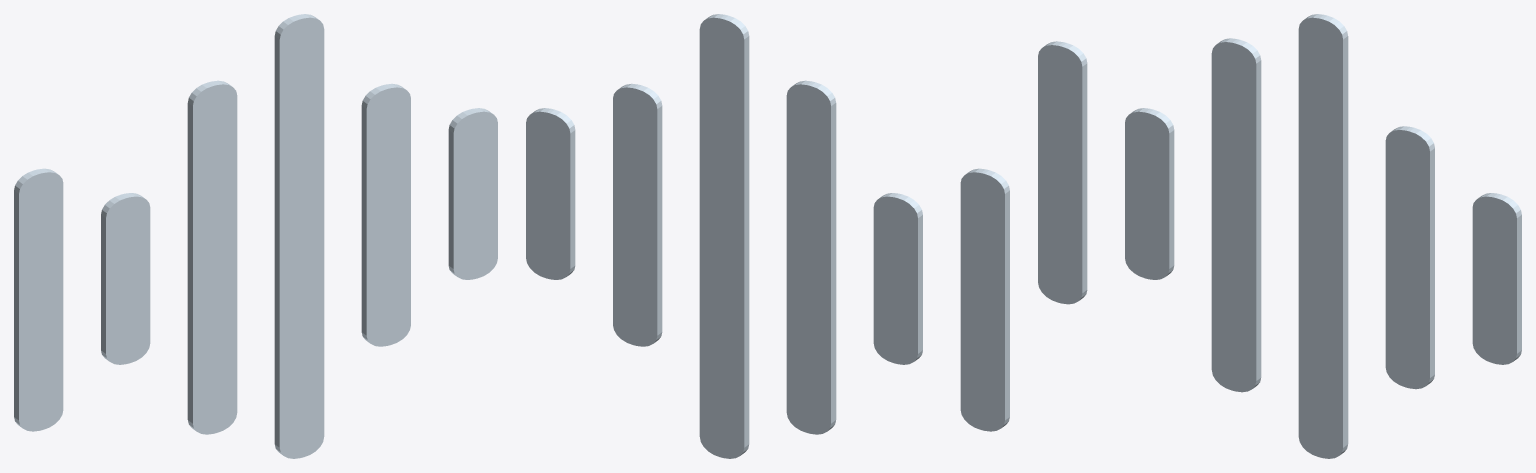
The model's file is Audio_3D_Icon_02.fbx.
The picture shows the model from 3 angles, left to right: view 1: azimuth 30°, elevation 25°; view 2: azimuth 150°, elevation 25°; view 3: azimuth 330°, elevation 25°; orthographic projection.
Visible parts, largest first — view 1: Audio_3D_Icon_02; view 2: Audio_3D_Icon_02; view 3: Audio_3D_Icon_02.
Boxes of the visible parts, x1,y1,x2,y2 form: Audio_3D_Icon_02: [14, 14, 497, 458]; Audio_3D_Icon_02: [526, 14, 1009, 458]; Audio_3D_Icon_02: [1038, 14, 1521, 458].
Size of the model in its own units: 110 by 96.5 by 2.
